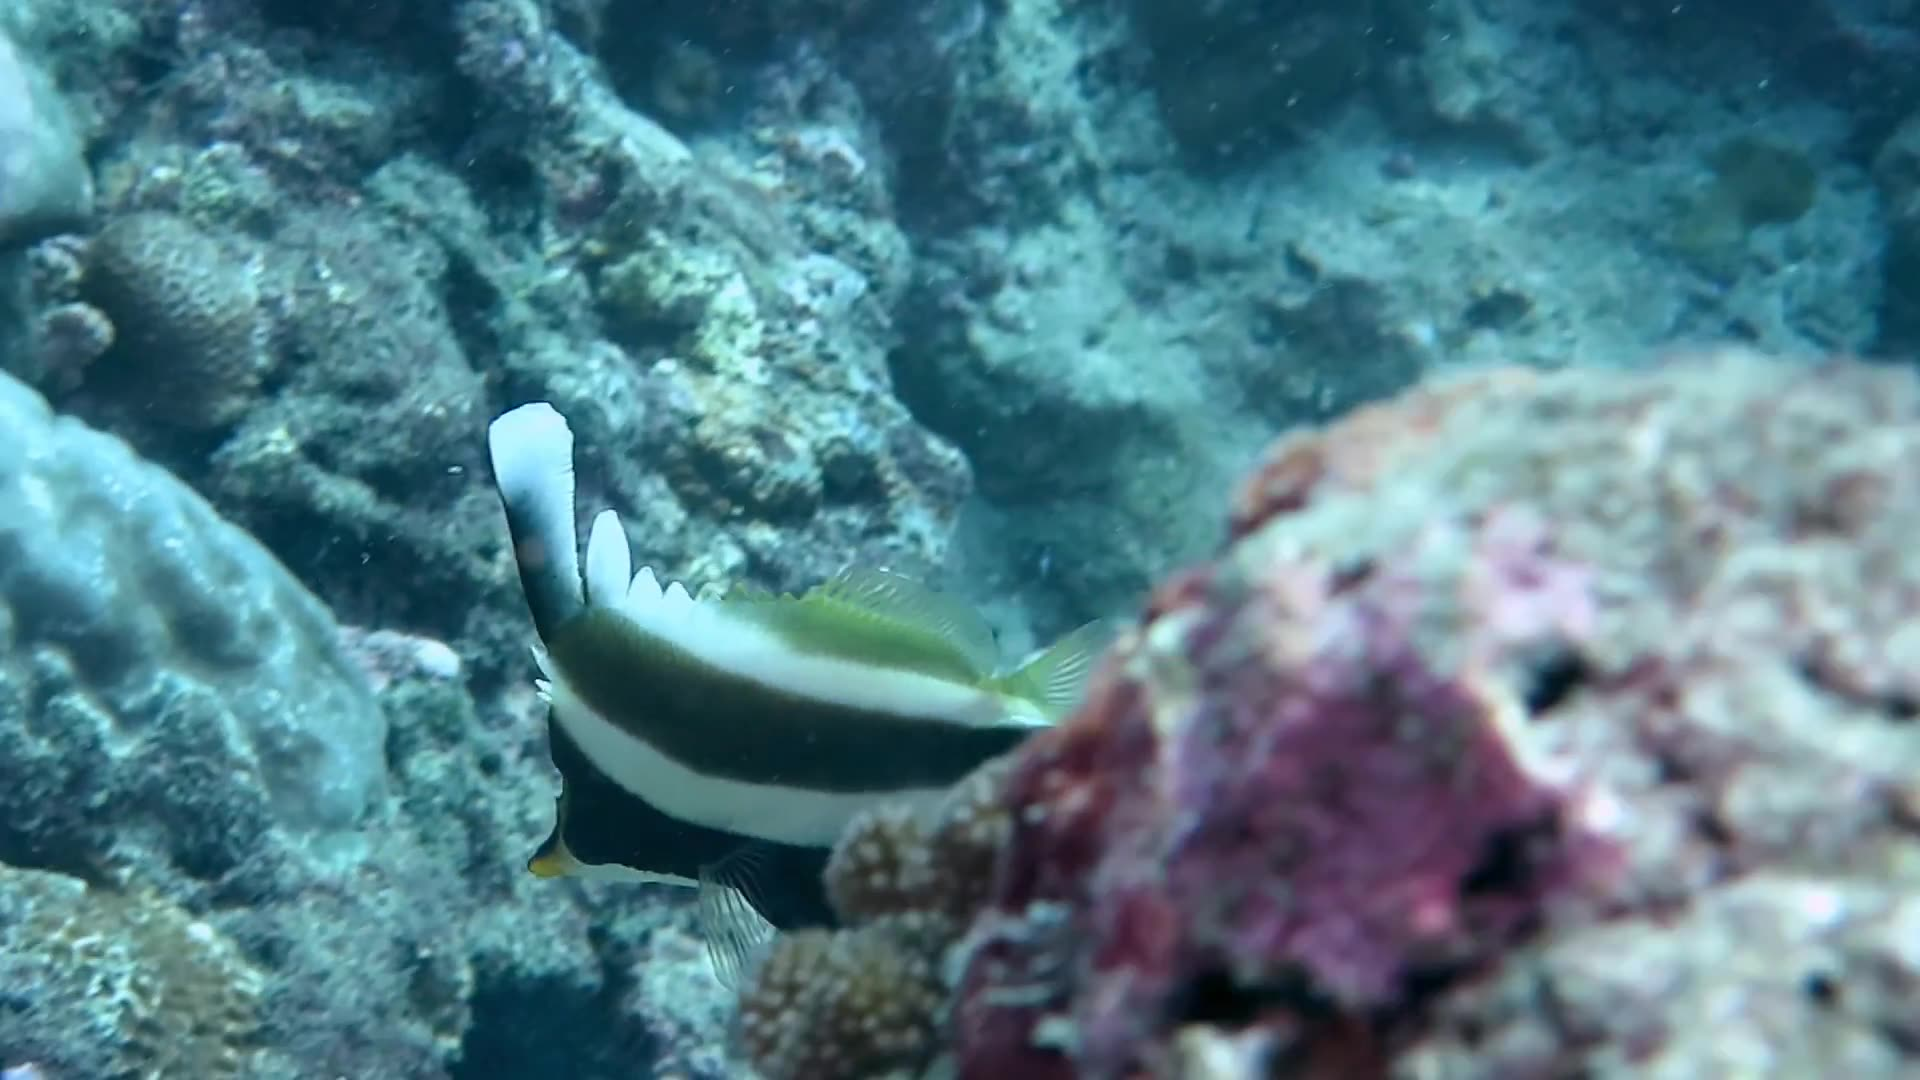Heniochus chrysostomus: (456, 222, 1175, 961)
